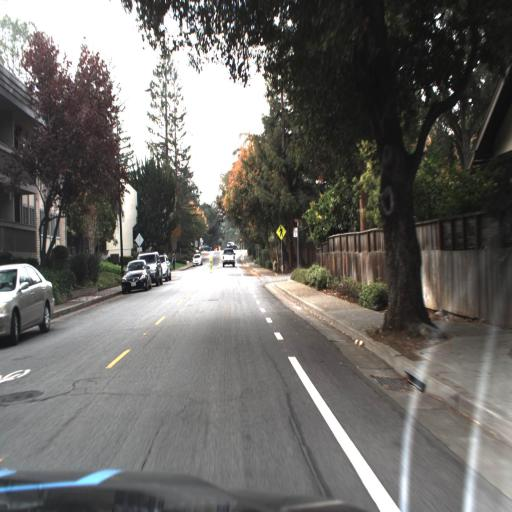car: (0, 259, 55, 343), (122, 259, 149, 291), (221, 242, 237, 270)
